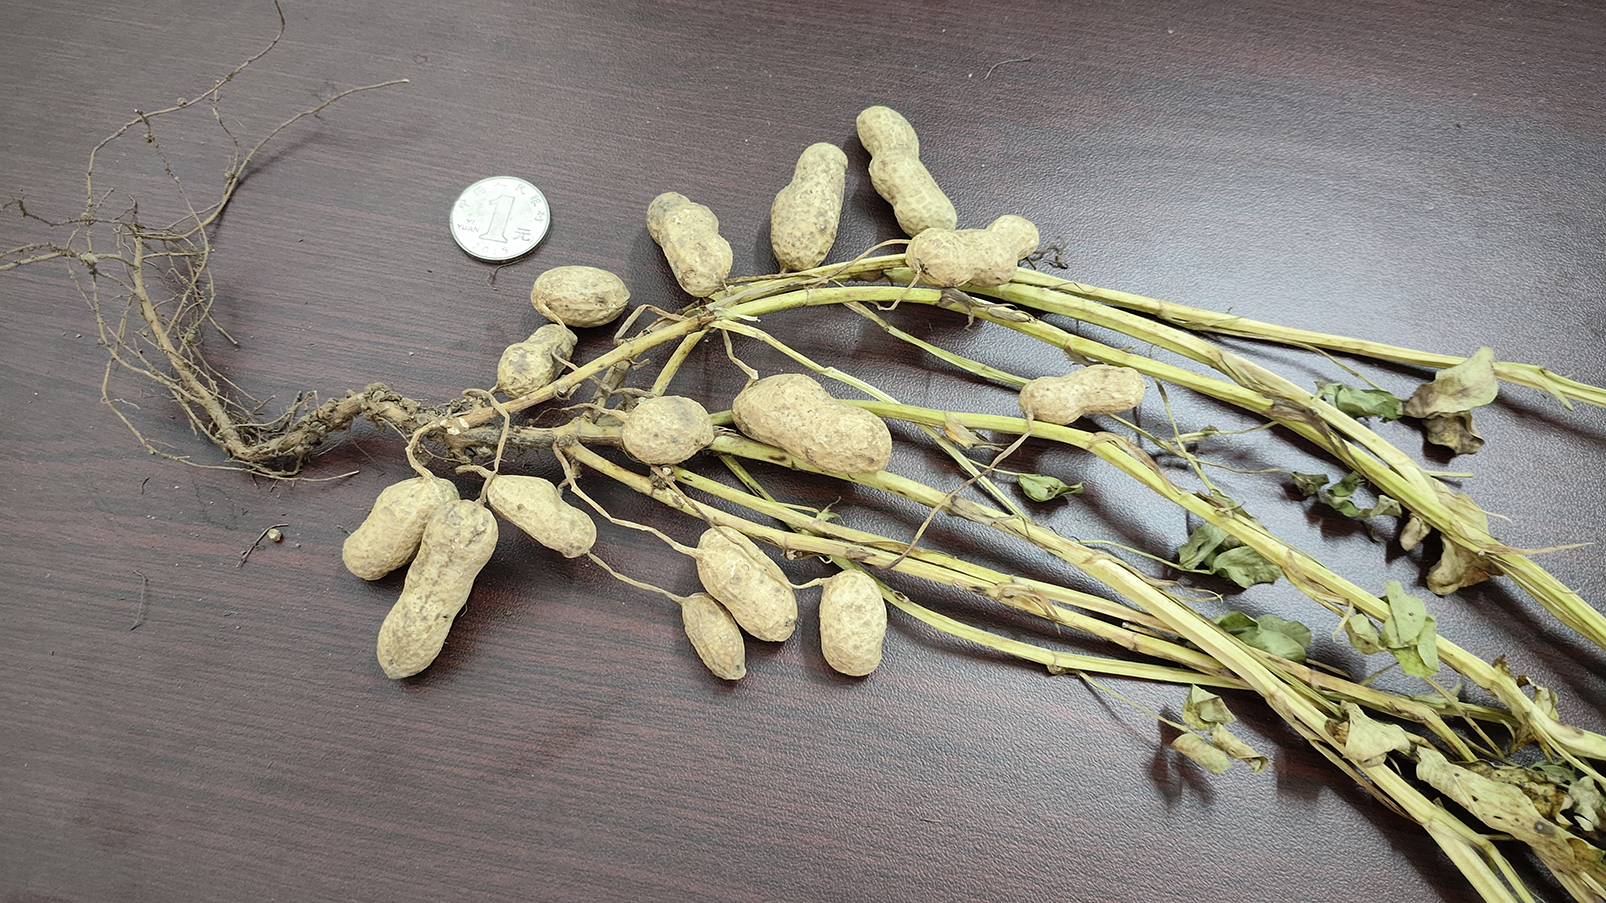h: (377, 497, 497, 681), (731, 370, 892, 474), (856, 103, 957, 232), (343, 475, 460, 582), (695, 525, 796, 643), (773, 139, 849, 271), (904, 216, 1040, 288), (645, 191, 732, 295), (486, 475, 596, 558), (1018, 364, 1145, 424), (818, 568, 887, 677), (622, 394, 714, 464), (529, 265, 631, 324), (496, 322, 577, 397), (682, 593, 748, 680)
